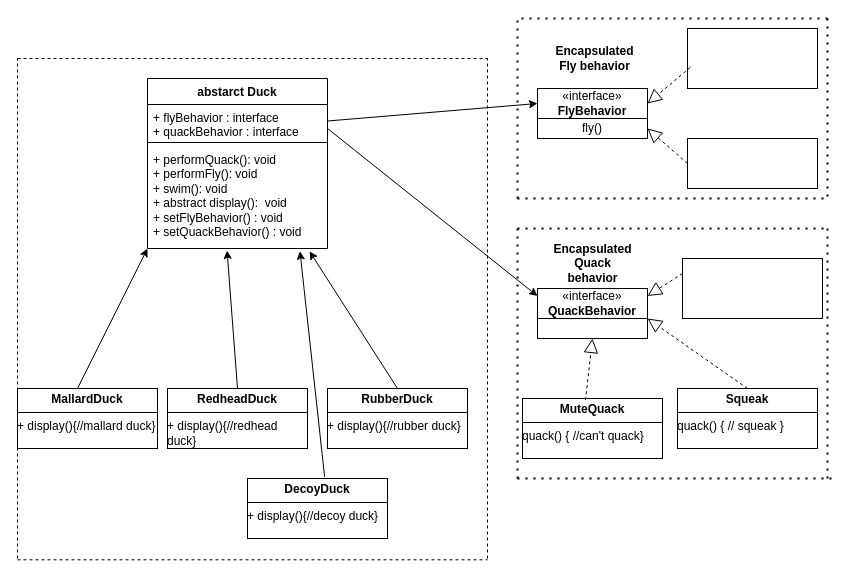
Image size: 857x578. Some labels were removed from this diagram. Here are the shapes that lost their labels. From the top down, the centre of each, then its label:
pixel 752 58: FlyWithWings fly(){ // duck flying}
pixel 752 163: FlyNoWay fly() { //can't fly }
pixel 752 288: Quack quack(){ // quacking }
pixel 592 328: quack()
